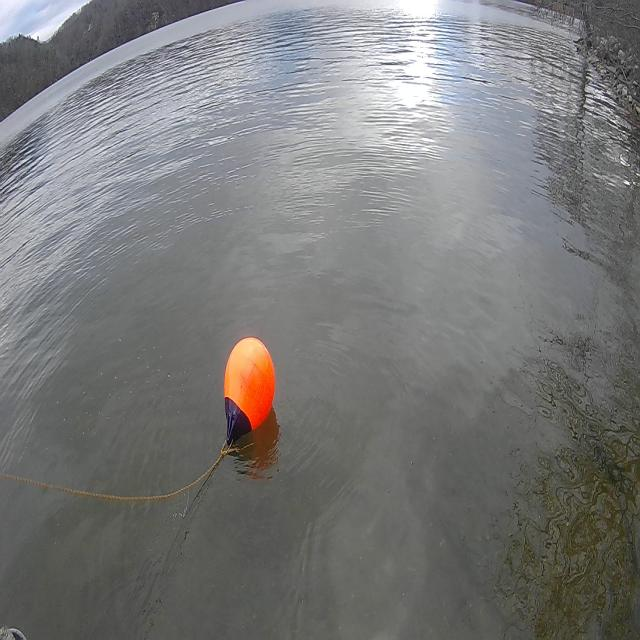Buoy: (221, 332, 278, 437)
